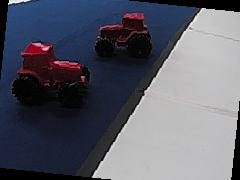Tracktor: (11, 39, 92, 105), (93, 10, 154, 58)
